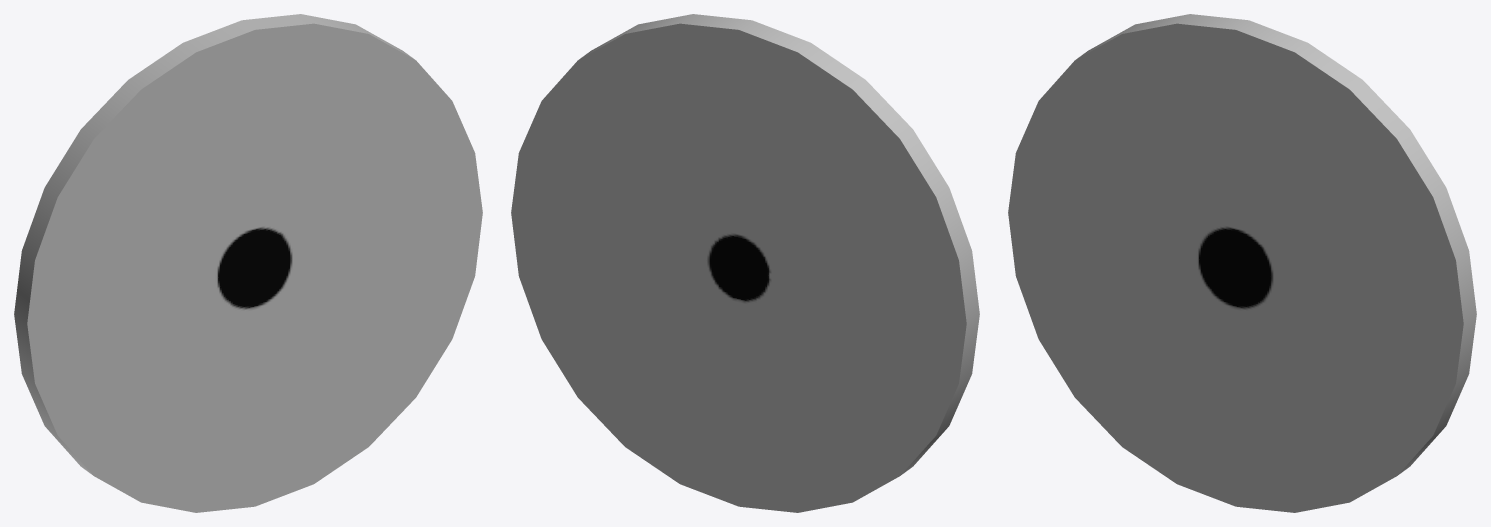
File: plate_white.glb
3 renders of one model, left to right at view 1: azimuth 30°, elevation 25°; view 2: azimuth 150°, elevation 25°; view 3: azimuth 330°, elevation 25°, orthographic.
Visible parts, largest first — view 1: node_id38; view 2: node_id38; view 3: node_id38.
Boxes of the visible parts, bbox=[...] form: node_id38: bbox=[14, 14, 482, 512]; node_id38: bbox=[511, 14, 979, 512]; node_id38: bbox=[1008, 14, 1476, 512].
Size of the model in its own units: 0.512 by 0.512 by 0.0256.
1 material, 1 textured.
